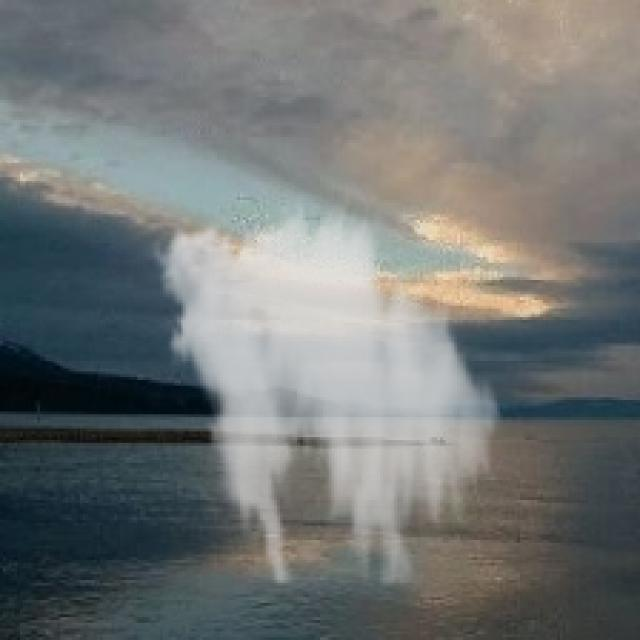Smoke: (143, 194, 512, 586)
